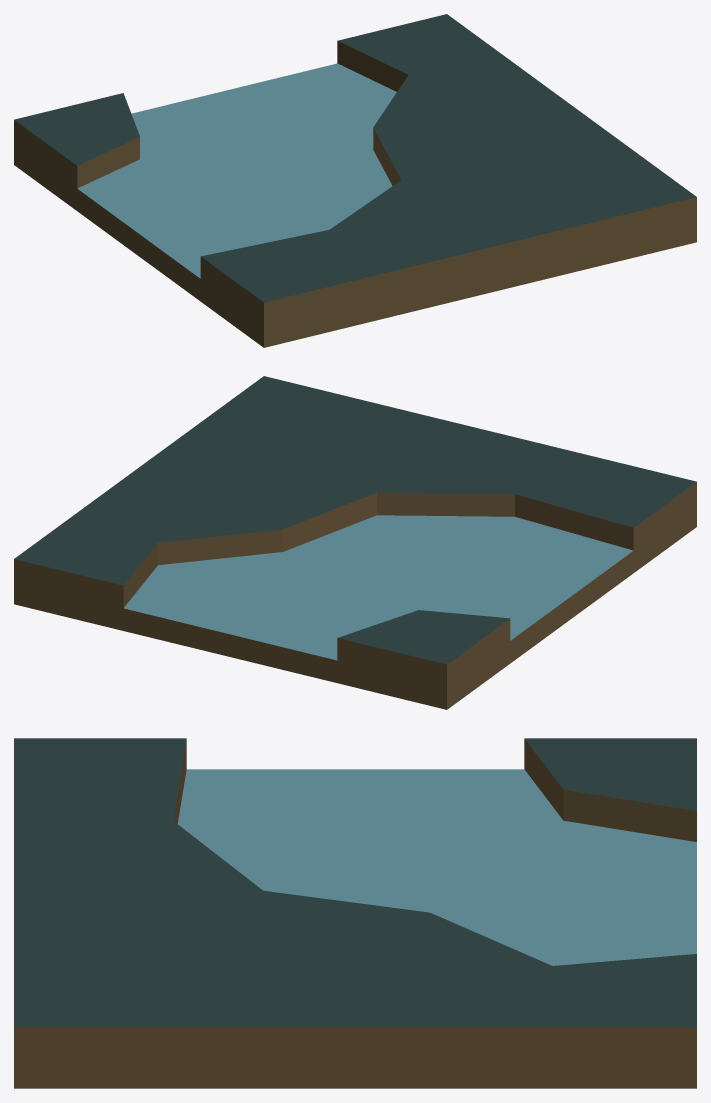
The model's file is Plate_River_Corner_Dirt_01.obj.
The picture shows the model from 3 angles, top to bottom: view 1: azimuth 30°, elevation 25°; view 2: azimuth 150°, elevation 25°; view 3: azimuth 270°, elevation 25°; orthographic projection. The views are drawn at different scales.
Parts seen in each view (by area): view 1: Mesh1_Plate_River_Corner_Dirt_Model; view 2: Mesh1_Plate_River_Corner_Dirt_Model; view 3: Mesh1_Plate_River_Corner_Dirt_Model.
Boxes of the visible parts, x1,y1,x2,y2 form: Mesh1_Plate_River_Corner_Dirt_Model: (14,14,696,347); Mesh1_Plate_River_Corner_Dirt_Model: (14,376,696,709); Mesh1_Plate_River_Corner_Dirt_Model: (14,738,696,1088).
Bounding box in the file's own units: 3 × 0.3 × 3.
